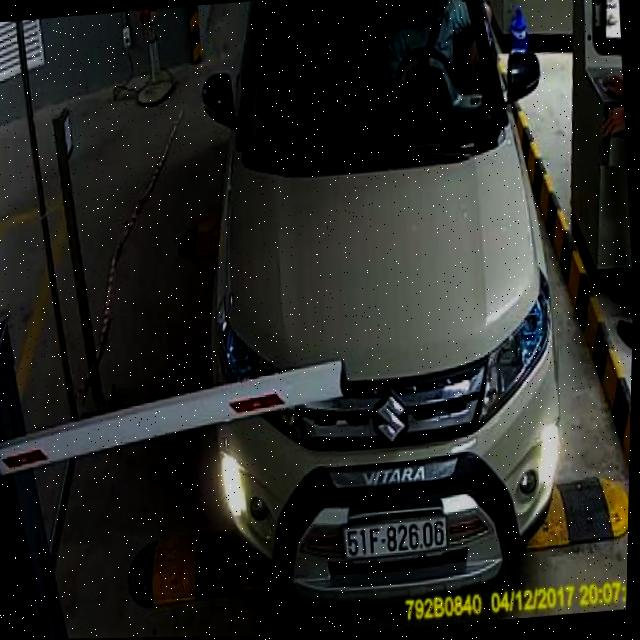car: (170, 0, 586, 615)
plate: (335, 510, 454, 566)
